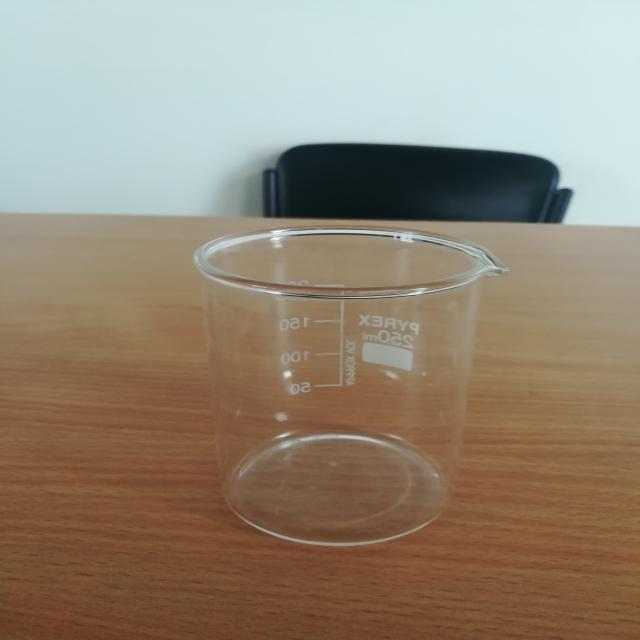Beaker: (155, 189, 530, 563)
